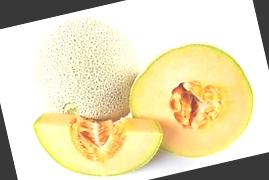Melon Ripe: (118, 30, 264, 170), (14, 3, 154, 136), (29, 87, 169, 180)
